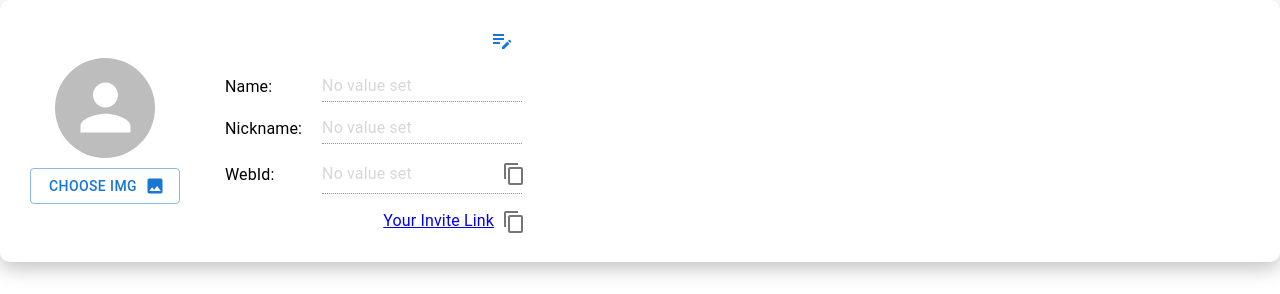
Scenario: ProfileComponent › renders edit buttons after clicking on cancel button
Click the button named "Edit" at (502, 40), box [482,20,522,60]
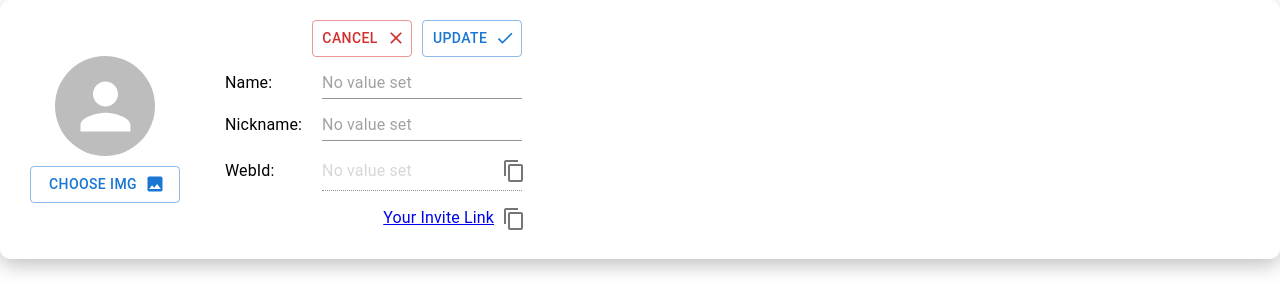
Click the button "Cancel" at (362, 38), box [312,20,412,56]
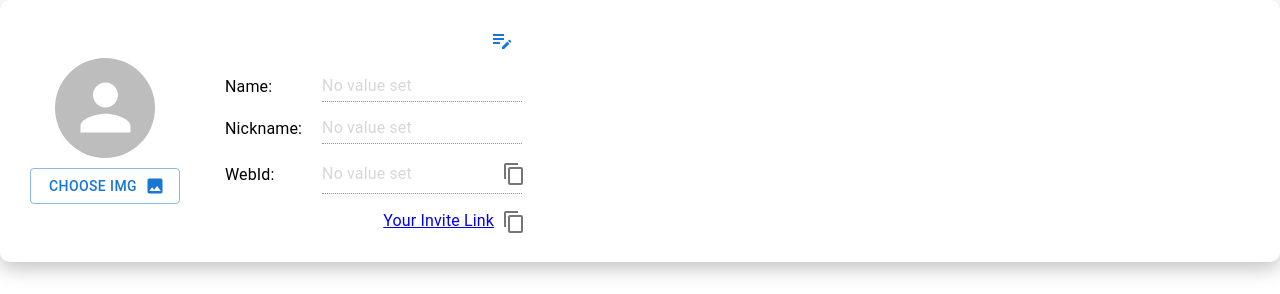
Now the button named "Edit" is shown, box [482,20,522,60]
Now the button "Update" is gone
Now the button "Cancel" is gone
